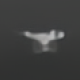plane: (18, 29, 67, 55)
